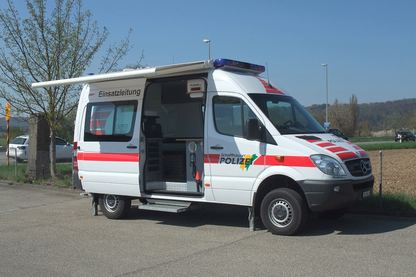ambulance: (31, 58, 374, 236)
car: (4, 136, 74, 162), (395, 131, 415, 142)
